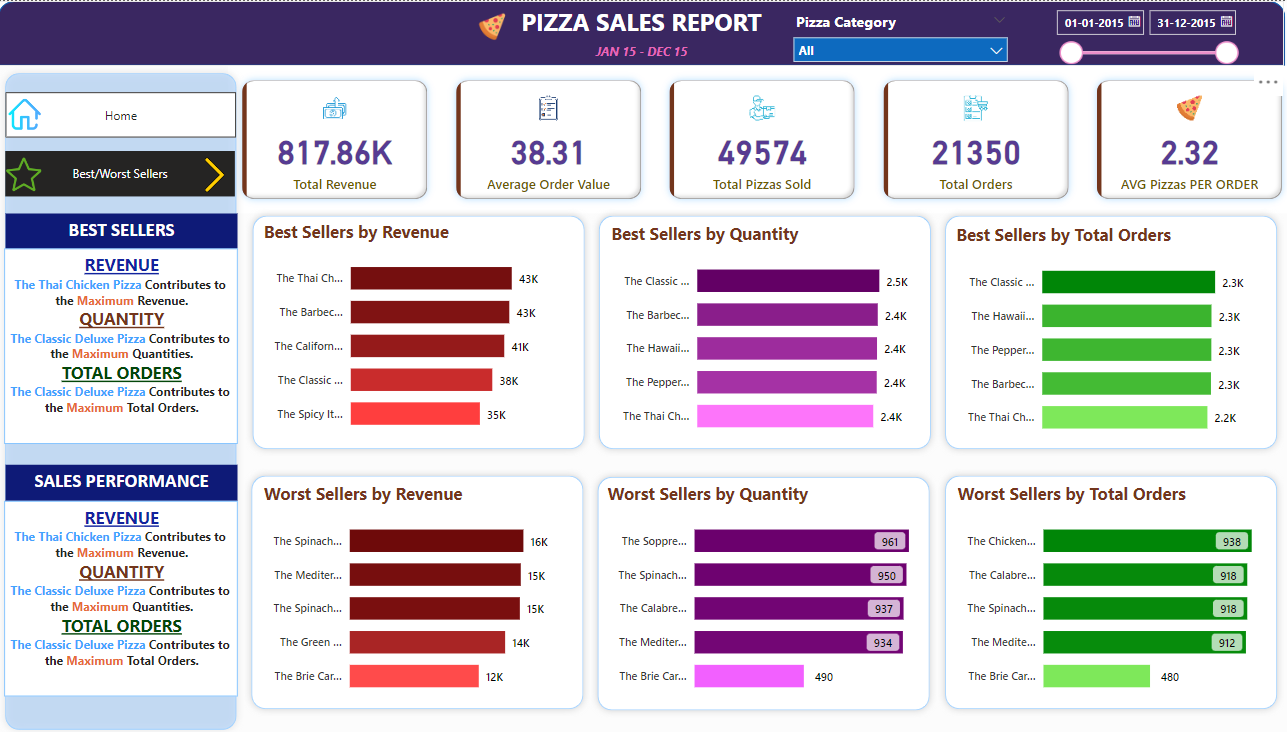

Layout of this report page (visuals, bound fields, positions):
{"tool":"powerbi","page":{"name":"Best/Worst Sellers","canvas":[1500,820],"ordinal":1},"visuals":[{"type":"cardVisual","fields":{"Data":["pizza_sales.Total Revenue","pizza_sales.Total Average Order Value","pizza_sales.Total Pizza Sold","pizza_sales.Total Orders","pizza_sales.AVG PIZZAS PER ORDER"]},"box":[289.6,72.4,1193.1,164.3],"z":0},{"type":"shape","box":[33.3,0,1433.3,72.2],"z":1000},{"type":"textbox","box":[595.8,0,308.3,48.6],"z":2000},{"type":"textbox","box":[687.5,41.7,125,30.6],"z":3000},{"type":"image","box":[531.4,8.6,104.3,40],"z":4000},{"type":"shape","box":[308.6,231.4,385.7,275.7],"z":5000},{"type":"shape","box":[33.8,72.5,273.8,747.5],"z":6000},{"type":"textbox","box":[41.7,236.7,258.3,40],"z":7000},{"type":"textbox","box":[40,276.2,260,217.5],"z":8000},{"type":"textbox","box":[41.2,516.2,258.8,40],"z":9000},{"type":"slicer","fields":{"Values":["pizza_sales.pizza_category"]},"box":[908.6,7.1,258.6,65.7],"z":10000},{"type":"slicer","fields":{"Values":["pizza_sales.order_date"]},"box":[1200,0,222.9,81.4],"z":11000},{"type":"shape","box":[694.3,231.4,385.7,275.7],"z":12000},{"type":"shape","box":[1080,231.4,385.7,275.7],"z":13000},{"type":"shape","box":[307.1,520,385.7,275.7],"z":14000},{"type":"shape","box":[692.9,521.4,385.7,275.7],"z":15000},{"type":"shape","box":[1080,520,385.7,275.7],"z":16000},{"type":"barChart","title":"Best Sellers by Revenue","fields":{"Category":["pizza_sales.pizza_name"],"Y":["pizza_sales.Total Revenue"]},"box":[324.3,244.3,354.3,250],"z":17000},{"type":"barChart","title":"Best Sellers by Quantity","fields":{"Category":["pizza_sales.pizza_name"],"Y":["pizza_sales.Total Pizzas Sold"]},"box":[712,246,354,250],"z":18000},{"type":"barChart","title":"Best Sellers by Total Orders","fields":{"Category":["pizza_sales.pizza_name"],"Y":["pizza_sales.Total Orders"]},"box":[1096,248,354,250],"z":19000},{"type":"barChart","title":"Worst Sellers by Revenue","fields":{"Category":["pizza_sales.pizza_name"],"Y":["pizza_sales.Total Revenue"]},"box":[324,536,354,250],"z":20000},{"type":"barChart","title":"Worst Sellers by Quantity","fields":{"Category":["pizza_sales.pizza_name"],"Y":["pizza_sales.Total Pizzas Sold"]},"box":[706.7,536.7,355,250],"z":21000},{"type":"barChart","title":"Worst Sellers by Total Orders","fields":{"Category":["pizza_sales.pizza_name"],"Y":["pizza_sales.Total Orders"]},"box":[1096.7,536.7,353.3,250],"z":22000},{"type":"textbox","box":[40,556.2,260,217.5],"z":23000},{"type":"pageNavigator","box":[41.4,167.1,255.7,50],"z":24000},{"type":"pageNavigator","box":[41.4,101.4,257.1,50],"z":25000},{"type":"image","box":[250.8,165,48.3,55],"z":26000},{"type":"image","box":[40.4,100.2,45.9,51.5],"z":27000},{"type":"image","box":[37.6,167.1,48.7,51.5],"z":28000}]}

Visuals, with their boxes on the page's 1500x820 design canvas (x1, y1, x2, y2). These are canvas units, not pixel positions in the 1287x732 screenshot, which may show the page scaled, cropped or inside an application window:
cardVisual - pizza_sales.Total Revenue x pizza_sales.Total Average Order Value: 290 72 1483 237
shape: 33 0 1467 72
textbox: 596 0 904 49
textbox: 688 42 812 72
image: 531 9 636 49
shape: 309 231 694 507
shape: 34 72 308 820
textbox: 42 237 300 277
textbox: 40 276 300 494
textbox: 41 516 300 556
slicer - pizza_sales.pizza_category: 909 7 1167 73
slicer - pizza_sales.order_date: 1200 0 1423 81
shape: 694 231 1080 507
shape: 1080 231 1466 507
shape: 307 520 693 796
shape: 693 521 1079 797
shape: 1080 520 1466 796
"Best Sellers by Revenue" barChart: 324 244 679 494
"Best Sellers by Quantity" barChart: 712 246 1066 496
"Best Sellers by Total Orders" barChart: 1096 248 1450 498
"Worst Sellers by Revenue" barChart: 324 536 678 786
"Worst Sellers by Quantity" barChart: 707 537 1062 787
"Worst Sellers by Total Orders" barChart: 1097 537 1450 787
textbox: 40 556 300 774
pageNavigator: 41 167 297 217
pageNavigator: 41 101 298 151
image: 251 165 299 220
image: 40 100 86 152
image: 38 167 86 219
